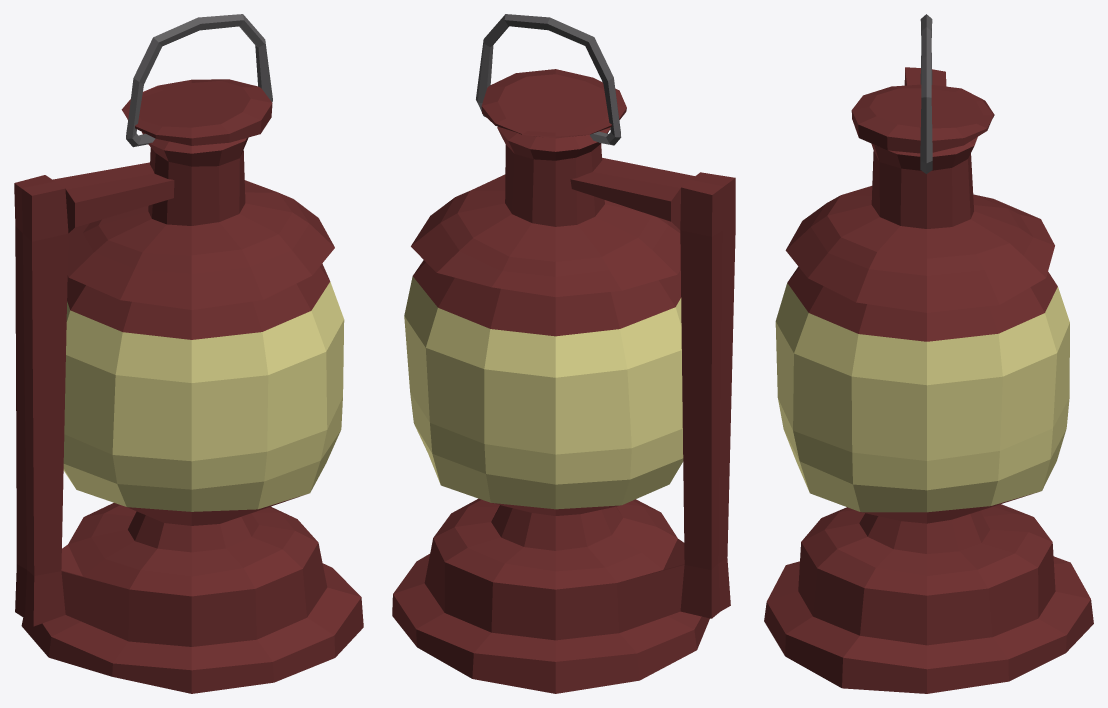
File: Lantern.fbx
The picture shows the model from 3 angles, left to right: view 1: azimuth 30°, elevation 25°; view 2: azimuth 150°, elevation 25°; view 3: azimuth 270°, elevation 25°; orthographic projection.
Visible parts, largest first — view 1: Lantern, HandleLantern; view 2: Lantern, HandleLantern; view 3: Lantern, HandleLantern.
Part boxes in pixels (x1,y1,x2,y2): Lantern: [14, 79, 363, 693]; HandleLantern: [126, 14, 272, 147]; Lantern: [392, 69, 735, 693]; HandleLantern: [476, 14, 621, 145]; Lantern: [764, 67, 1093, 693]; HandleLantern: [920, 14, 932, 173].
Bounding box in the file's own units: 44.92 × 82.6 × 40.94.
